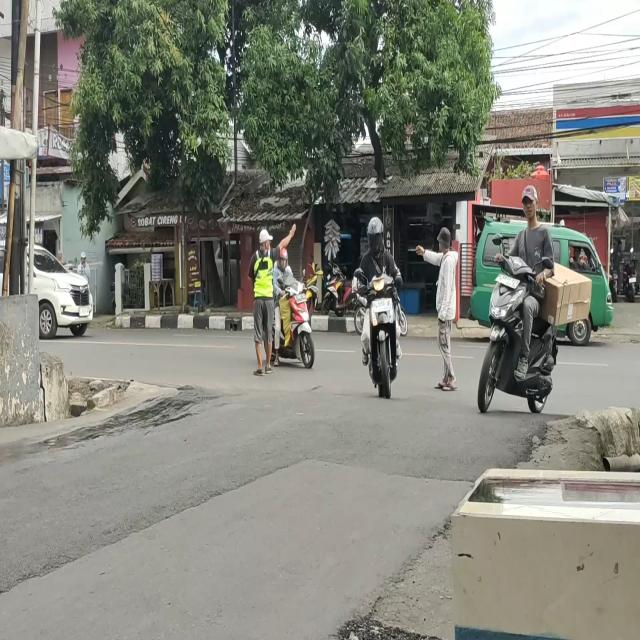helmet: (361, 217, 384, 252), (275, 247, 288, 268)
no-helmet: (519, 180, 540, 220)
